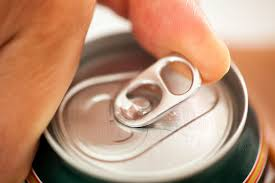can: (29, 22, 266, 183)
